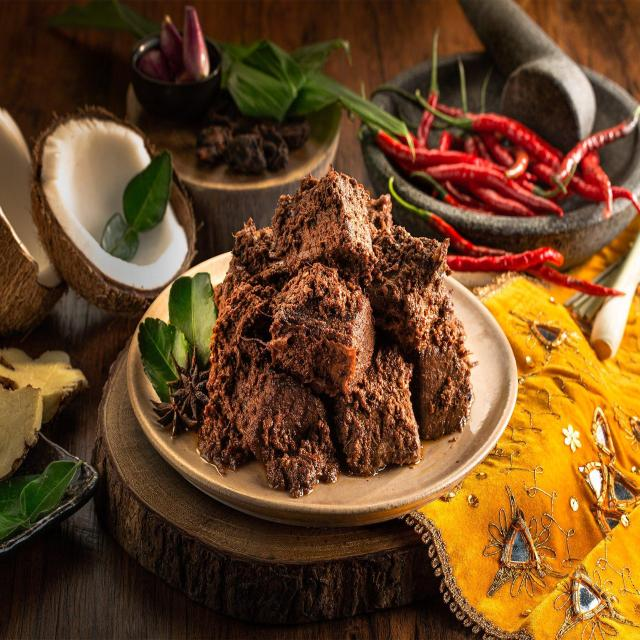Rendang: (204, 178, 488, 500)
